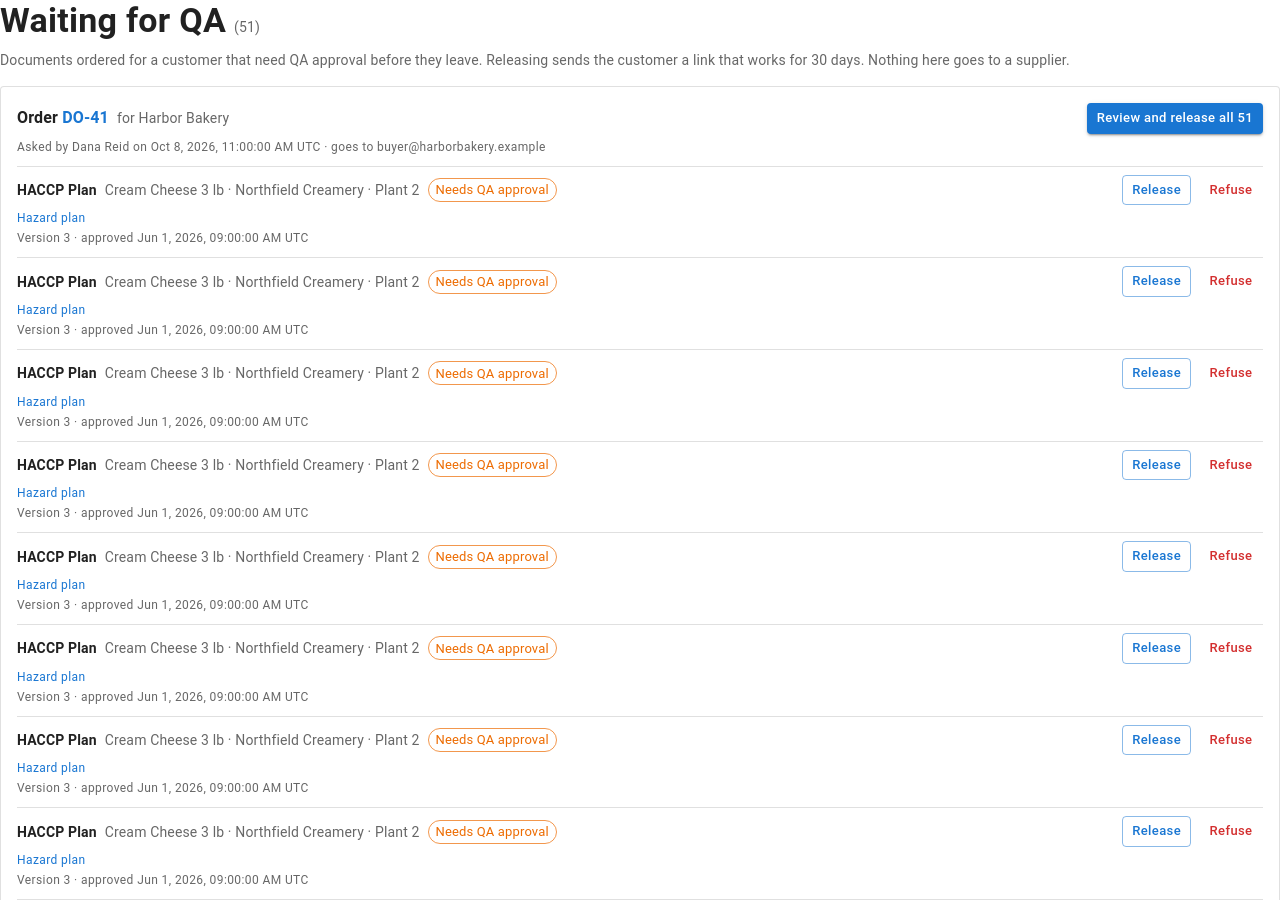
Test: OrdersWaitingForQa › more than one release carries is refused on the screen before anything is asked
The image size is (1280, 900).
Click the button with test id "waiting-release-all".
click(1175, 118)  # box [1087,103,1263,134]
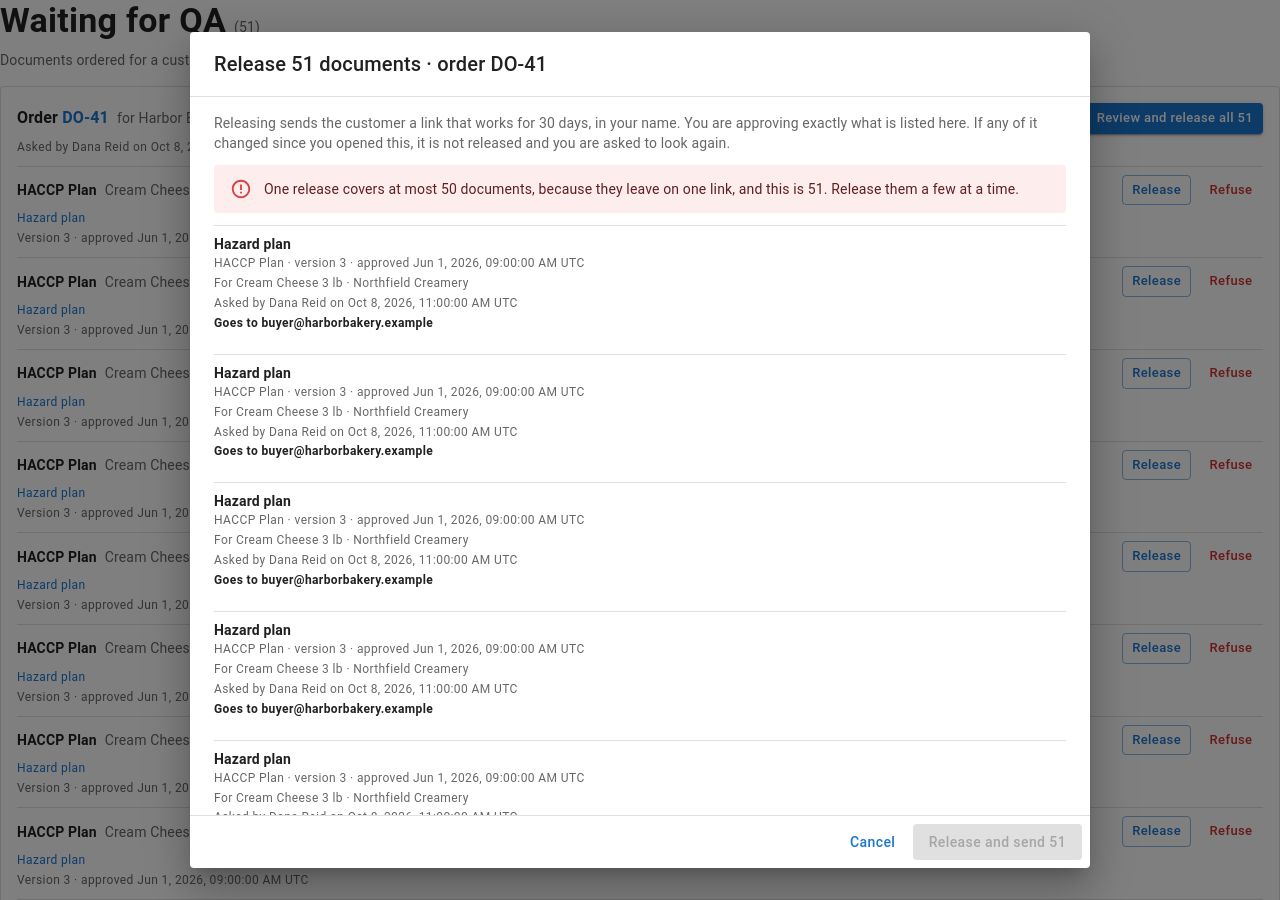
Expected: the message with test id "release-too-many" shows "at most 50 documents", [214,165,1066,213]
Expected: the button with test id "release-confirm" is disabled, [913,824,1082,860]
